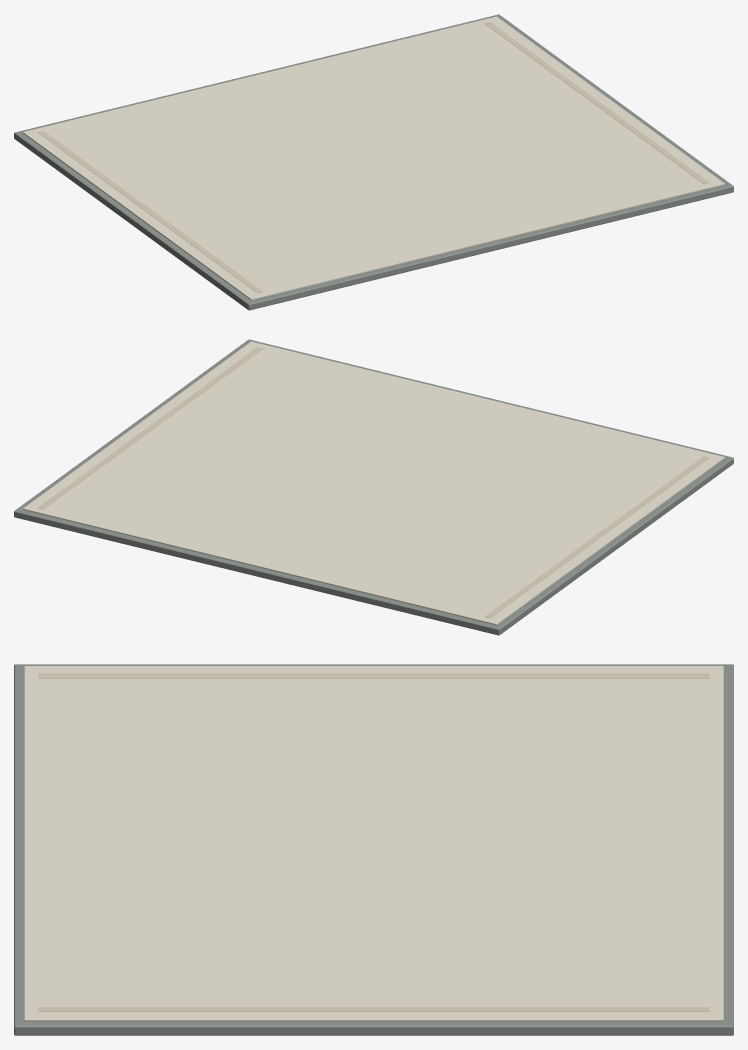
Rendered from museum-conservation-and-art-restoration-museum-conserv-e49ed106__31918.glb.
3 views of the same model, one above another, from view 1: azimuth 30°, elevation 25°; view 2: azimuth 150°, elevation 25°; view 3: azimuth 270°, elevation 25° (orthographic). The views are drawn at different scales.
Visible parts, largest first — view 1: museum-conservation-and-art-restoration-conservation-studio- (×3); view 2: museum-conservation-and-art-restoration-conservation-studio- (×3); view 3: museum-conservation-and-art-restoration-conservation-studio- (×3).
Part boxes in pixels (x1,y1,x2,y2): museum-conservation-and-art-restoration-conservation-studio- (×3): (14, 14, 733, 310); museum-conservation-and-art-restoration-conservation-studio- (×3): (14, 339, 733, 635); museum-conservation-and-art-restoration-conservation-studio- (×3): (14, 664, 733, 1035).
Bounding box in the file's own units: 12.4 × 0.201 × 10.4.
